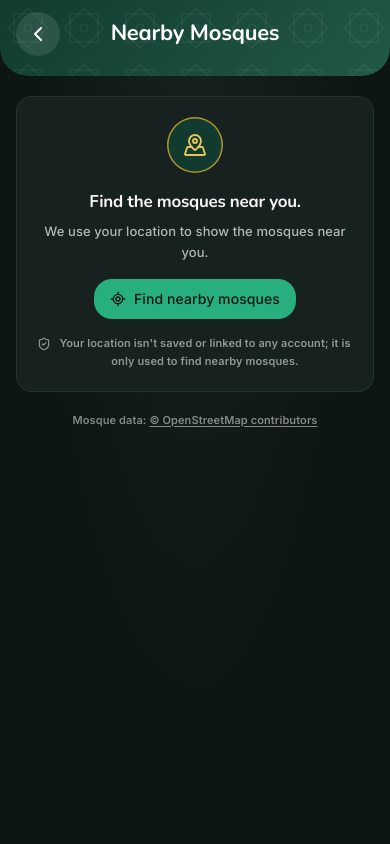
Test: Nearby Mosques — maps, platforms, languages and privacy › English labels
Expected: the text "We use your location to show the mosques near you." is shown, [37,220,353,263]
Expected: the heading reads "Nearby Mosques", [111,18,279,48]
Click the button with test id "mosques-start" at (195, 299), box [94,279,296,319]
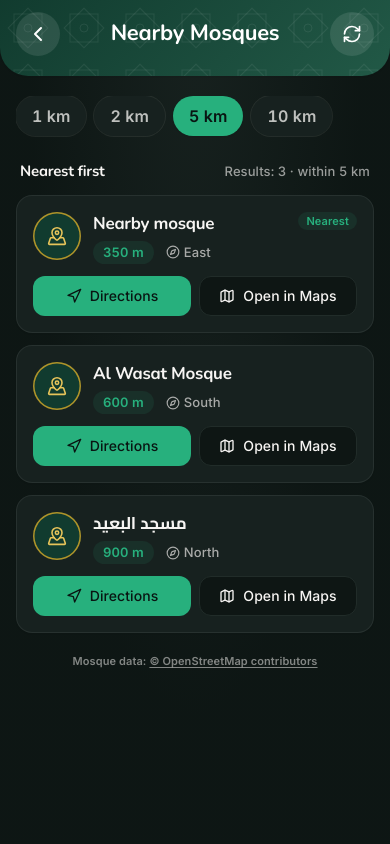
Expected: the number of links "Directions" is 3, [33,276,191,316]; [33,426,191,466]; [33,576,191,616]
Expected: the number of links "Open in Maps" is 3, [199,276,357,316]; [199,426,357,466]; [199,576,357,616]
Expected: the heading "Nearest first" is shown, [20,160,104,182]
